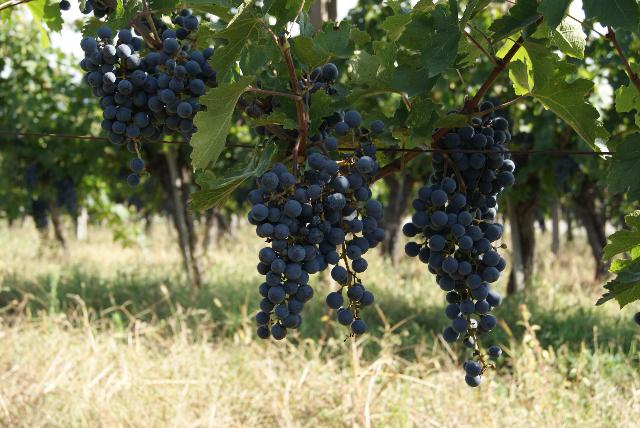grapes: (402, 172, 505, 349), (81, 15, 219, 145), (248, 162, 345, 340), (308, 154, 385, 334), (308, 154, 385, 274), (441, 118, 514, 198)
